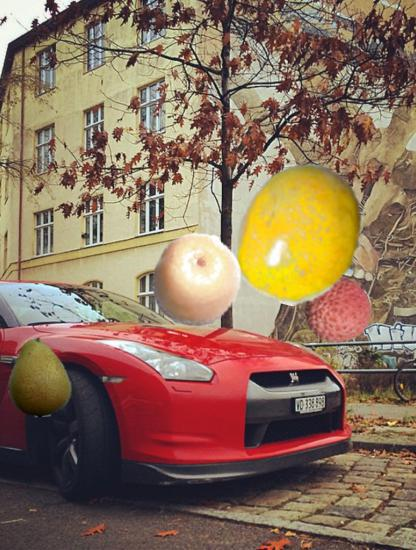Kumquats: (149, 232, 246, 329)
Lychee: (303, 276, 373, 346)
Maracuja: (229, 163, 373, 307)
Pear: (0, 338, 79, 417)
